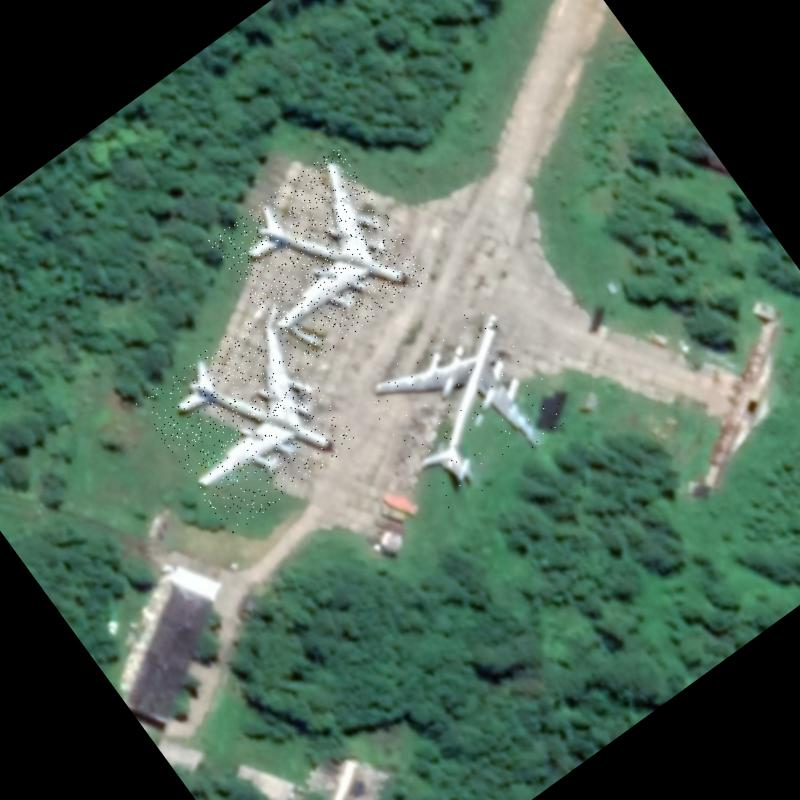A17: (134, 308, 360, 536), (207, 146, 432, 371), (355, 297, 575, 517)
